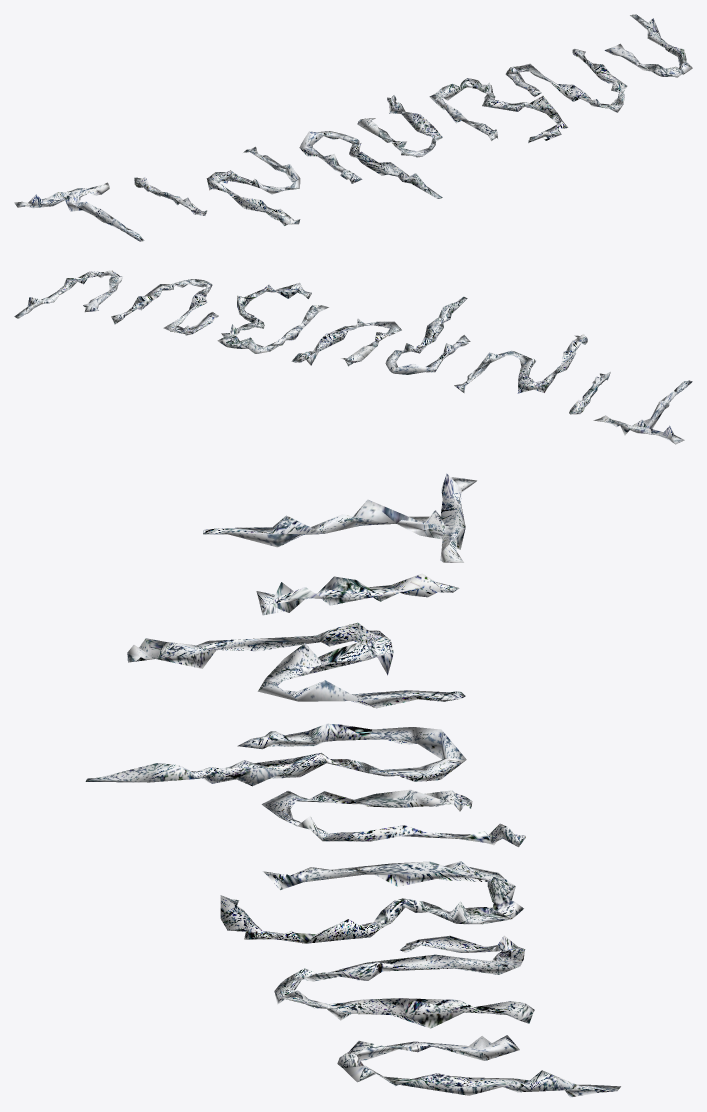
The model's file is 02_TINRUBNU.glb.
The picture shows the model from 3 angles, top to bottom: view 1: azimuth 30°, elevation 25°; view 2: azimuth 150°, elevation 25°; view 3: azimuth 270°, elevation 25°; orthographic projection. The views are drawn at different scales.
Parts seen in each view (by area): view 1: 02_TINRUBNU; view 2: 02_TINRUBNU; view 3: 02_TINRUBNU.
Part boxes in pixels (x1,y1,x2,y2): 02_TINRUBNU: (14, 14, 692, 241); 02_TINRUBNU: (14, 270, 692, 444); 02_TINRUBNU: (85, 473, 620, 1097).
Size of the model in its own units: 1.78 by 0.0549 by 0.6571.
1 material, 1 textured.
